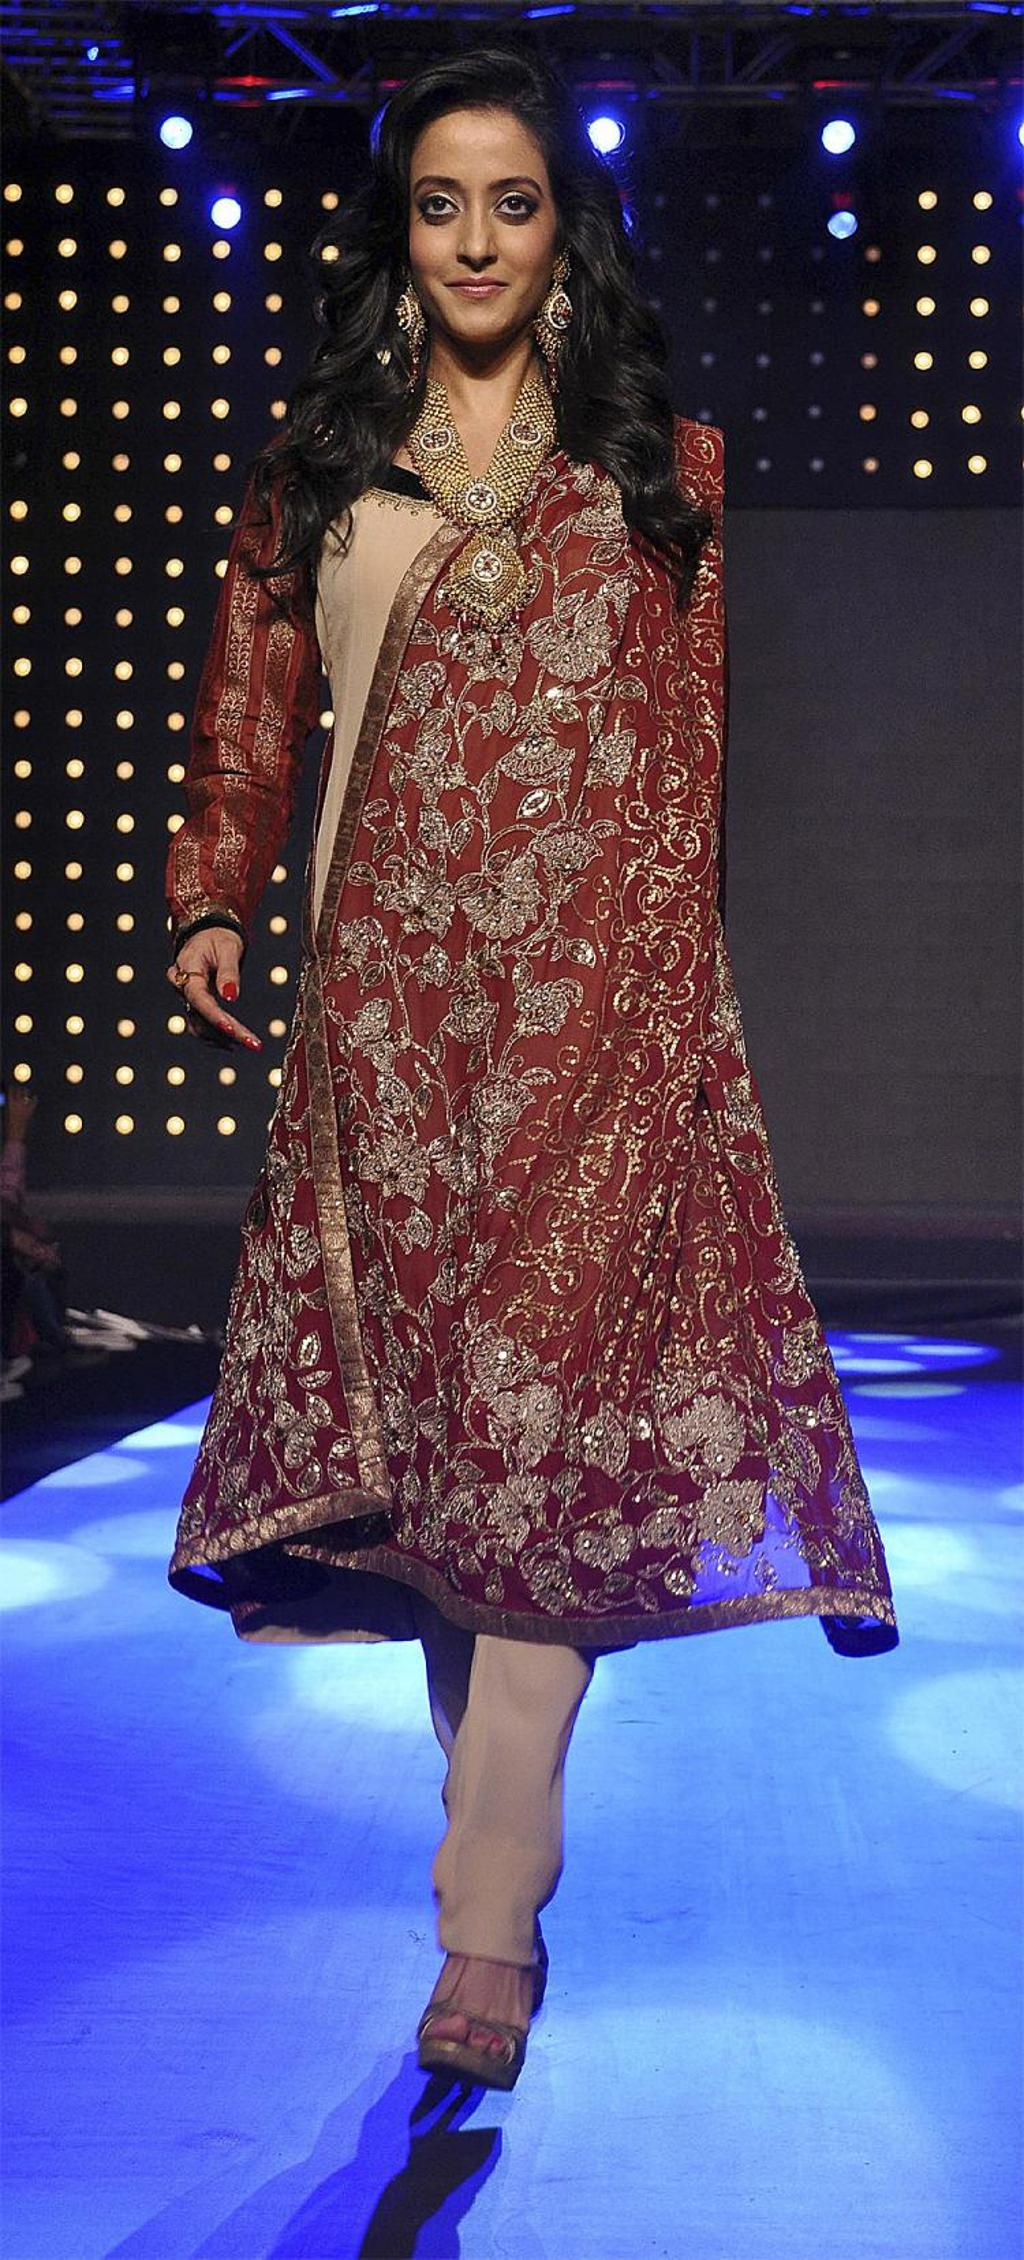face: (410, 115, 551, 345)
